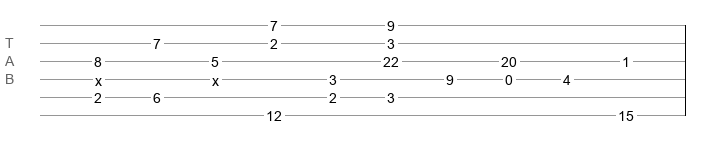0: (505, 72, 513, 82)
1: (622, 54, 630, 64)
12: (266, 108, 282, 118)
15: (618, 108, 634, 118)
2: (94, 90, 102, 100), (270, 36, 278, 46), (329, 90, 337, 100)
20: (501, 54, 517, 64)
22: (383, 54, 399, 64)
3: (329, 72, 337, 82), (387, 36, 395, 46), (387, 90, 395, 100)
4: (563, 72, 571, 82)
5: (211, 54, 219, 64)
6: (153, 90, 161, 100)
7: (153, 36, 161, 46), (270, 18, 278, 28)
8: (94, 54, 102, 64)
9: (387, 18, 395, 28), (446, 72, 454, 82)
x: (95, 73, 102, 81), (212, 73, 219, 81)
